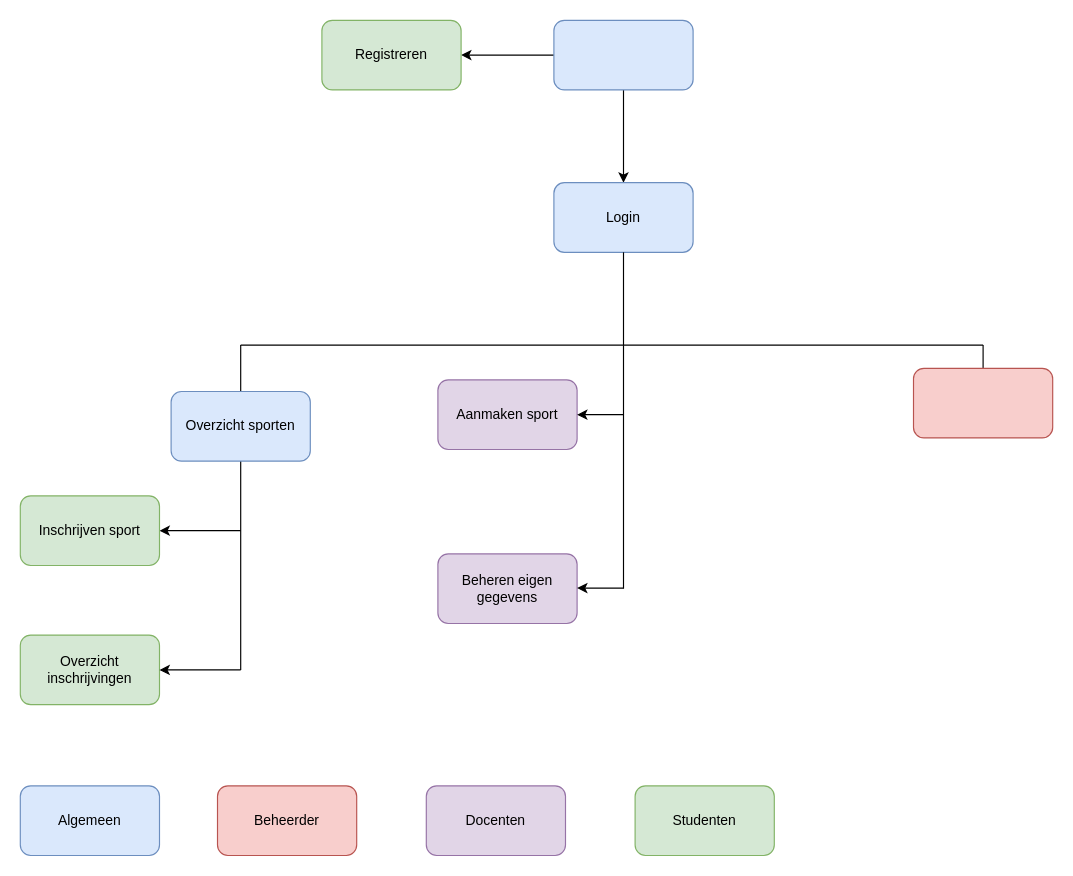
Image size: 1073x876. Some labels were removed from this diagram. Here are the shapes that lost their labels. From the top down, the centre of each, then its label:
At point 623,54: "Home".
At point 982,402: "Beheren docenten".
